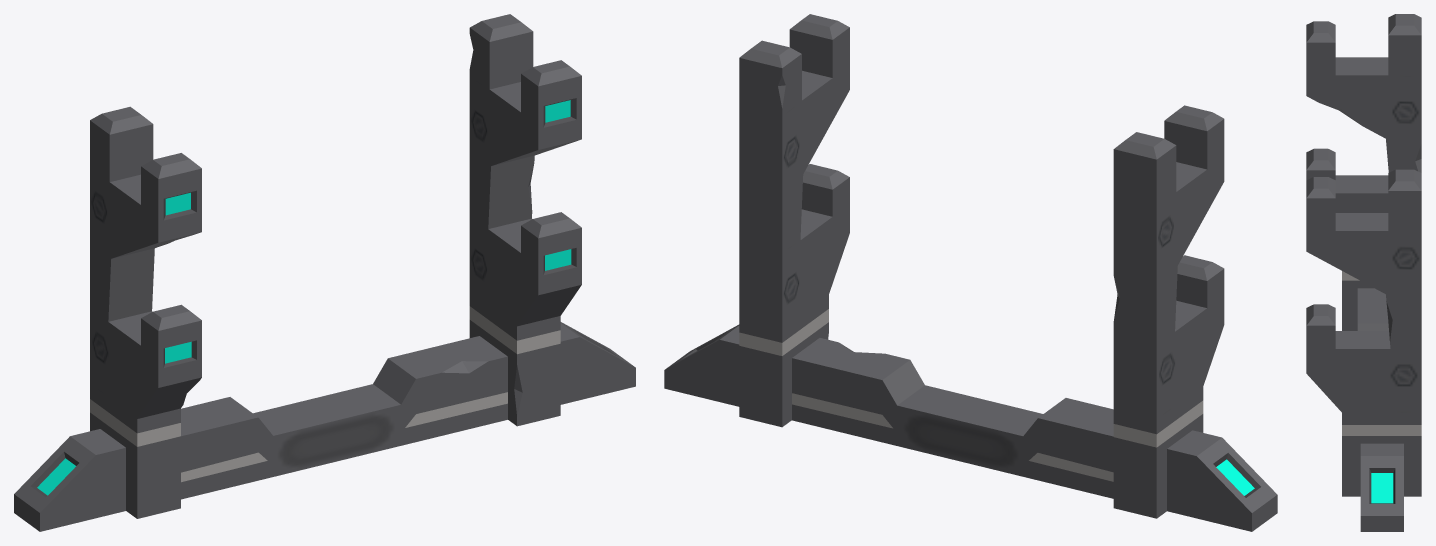
File: SM_Prop_Weapon_Rack_02.fbx
The picture shows the model from 3 angles, left to right: view 1: azimuth 30°, elevation 25°; view 2: azimuth 150°, elevation 25°; view 3: azimuth 270°, elevation 25°; orthographic projection. The views are drawn at different scales.
Parts seen in each view (by area): view 1: SM_Prop_Weapon_Rack_02; view 2: SM_Prop_Weapon_Rack_02; view 3: SM_Prop_Weapon_Rack_02.
Part boxes in pixels (x1,y1,x2,y2): SM_Prop_Weapon_Rack_02: (14, 14, 635, 531); SM_Prop_Weapon_Rack_02: (664, 14, 1277, 531); SM_Prop_Weapon_Rack_02: (1306, 14, 1421, 531).
Size of the model in its own units: 96.36 by 57.52 by 19.21.
